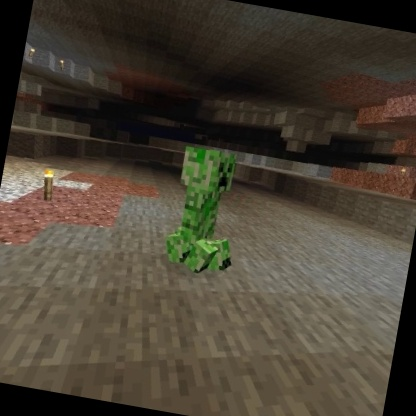creeper: (156, 141, 253, 284)
